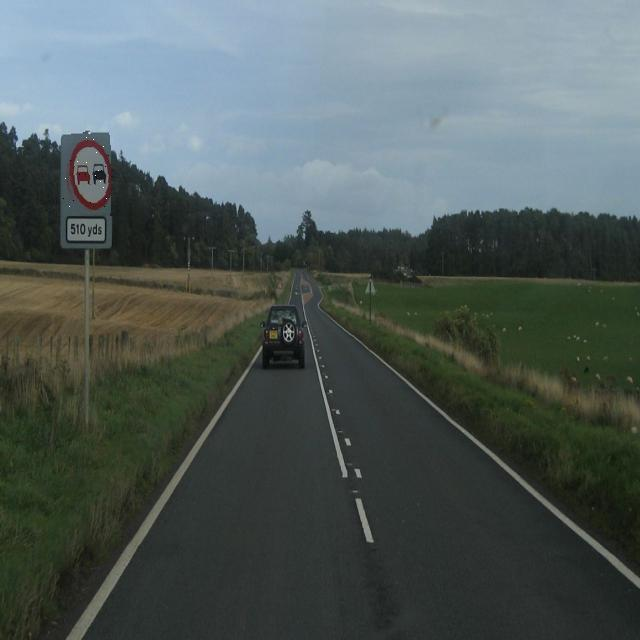no overtaking: (64, 132, 114, 216)
